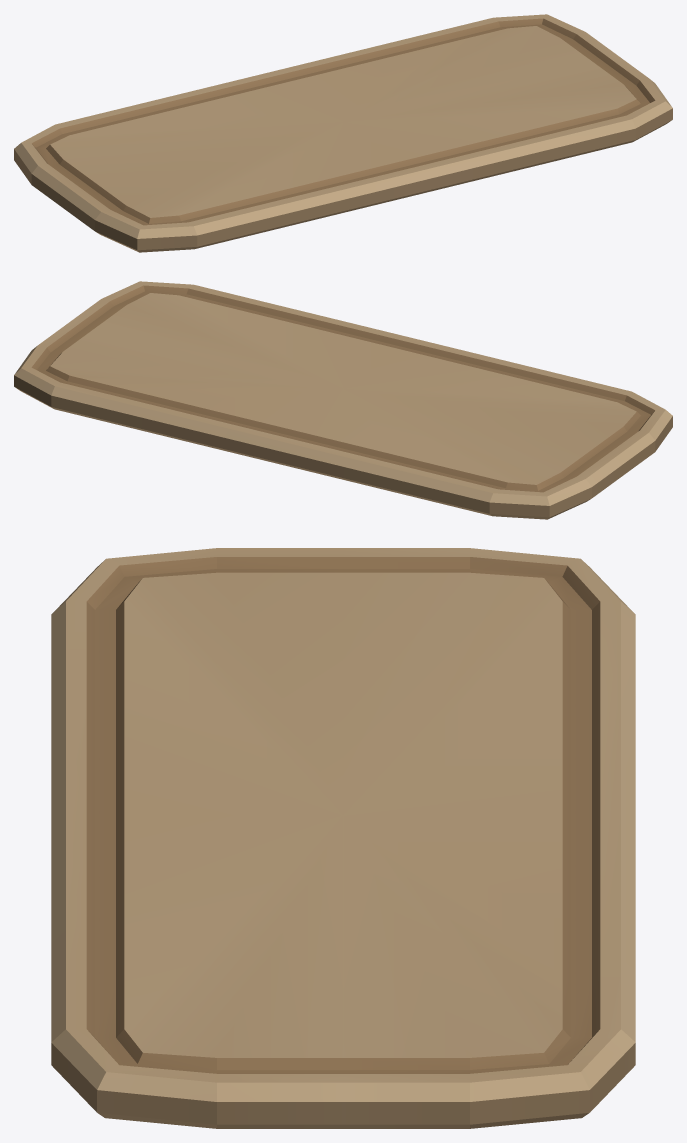
Rendered from planche_L.glb.
3 renders of one model, top to bottom at view 1: azimuth 30°, elevation 25°; view 2: azimuth 150°, elevation 25°; view 3: azimuth 270°, elevation 25°, orthographic. The views are drawn at different scales.
Parts seen in each view (by area): view 1: planche_L; view 2: planche_L; view 3: planche_L.
Part boxes in pixels (x1,y1,x2,y2): planche_L: (14, 14, 672, 252); planche_L: (14, 281, 672, 519); planche_L: (51, 548, 635, 1128).
Size of the model in its own units: 6.2 by 0.2399 by 2.8.
